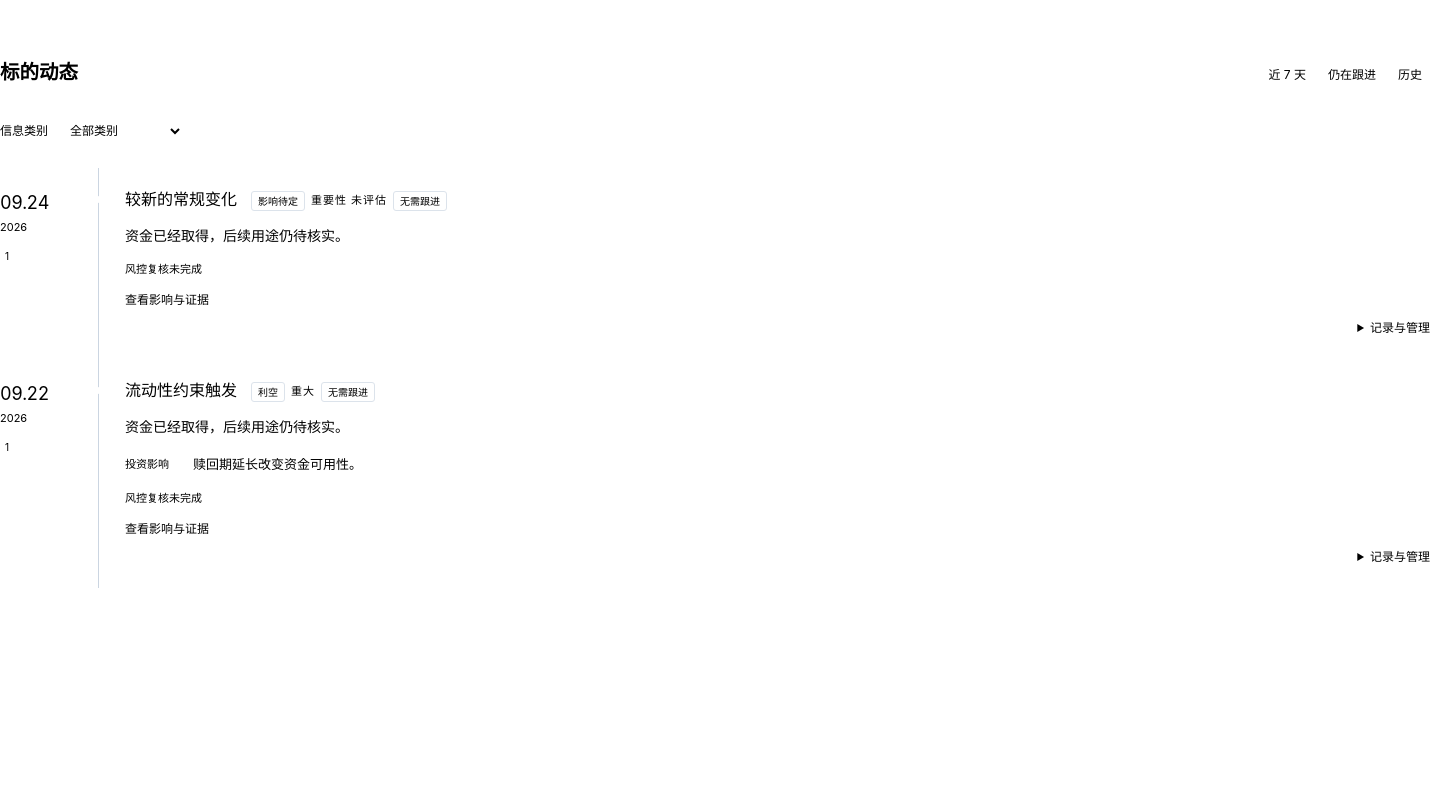
it: keeps the server date ordering and exposes impact conditions when the event is expanded
Expected: the heading "流动性约束触发" is shown, [125,377,237,404]
Expected: the headings read "较新的常规变化", "流动性约束触发", in this order, [125,186,237,213]; [125,377,237,404]
Click the button "查看影响与证据" below "赎回期延长改变资金可用性。": click(167, 529) [125,516,209,543]
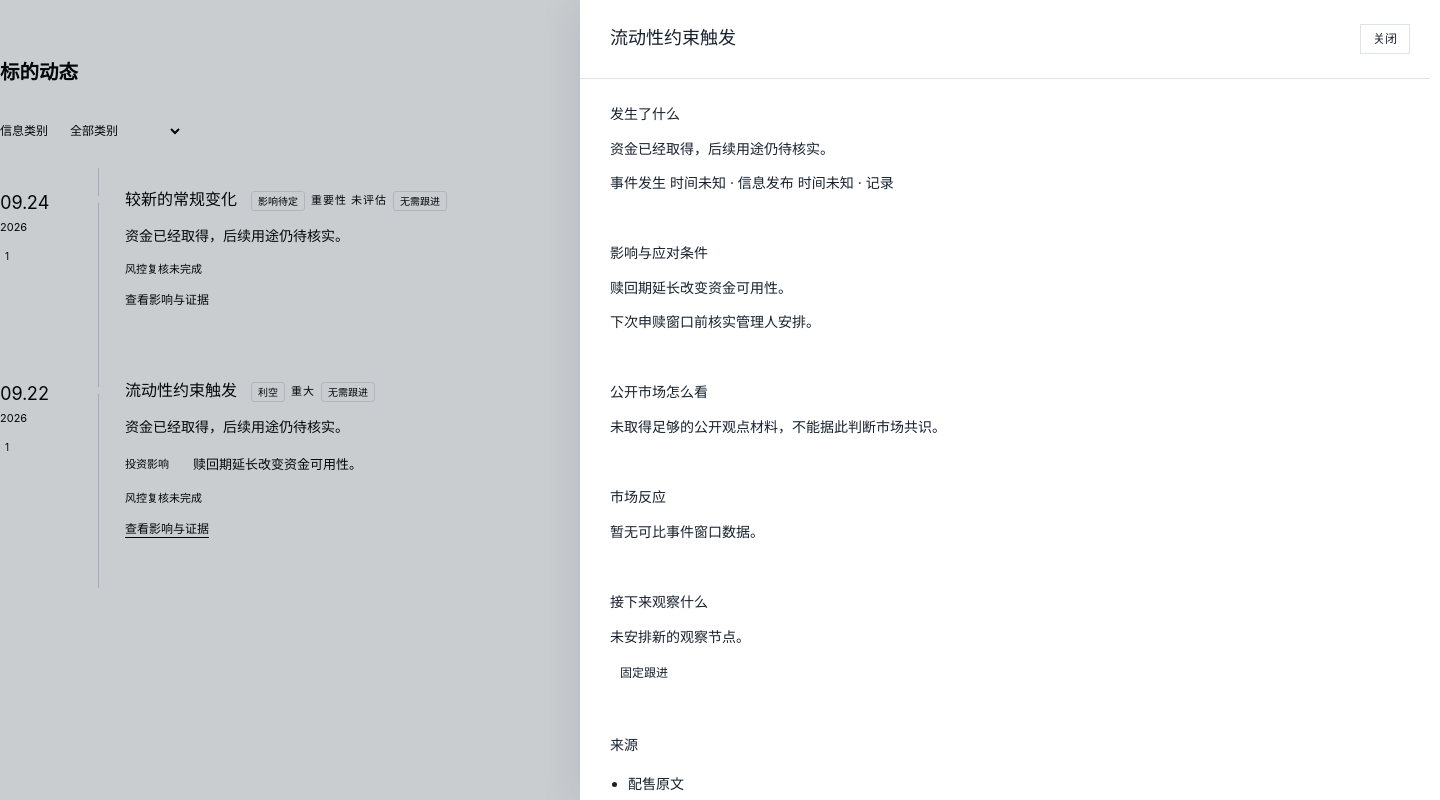
Result: the text "下次申赎窗口前核实管理人安排。" is shown at [610,313,820,330]
